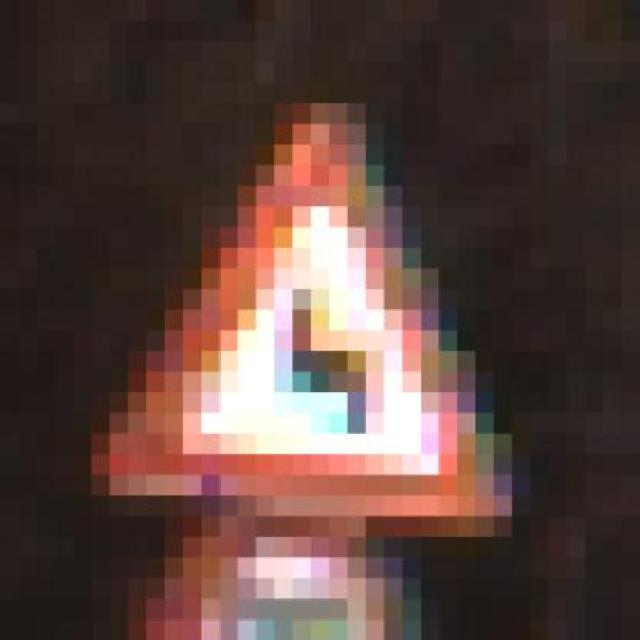Left Zig Zag Traffic: (54, 103, 548, 537)
